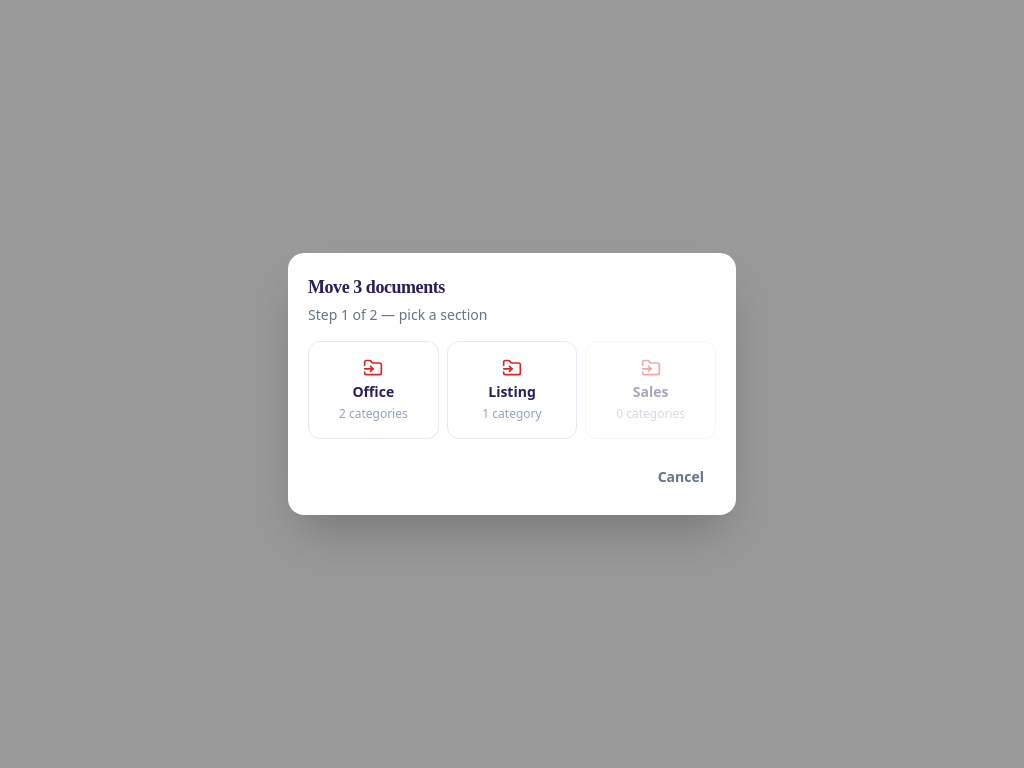
it: CategoryPickerDialog — button path (no section provided) › advances to category step after picking a section
The width and height of the screenshot is (1024, 768).
Click the button "Listing 1 category" at (512, 390), box [447,341,577,439]
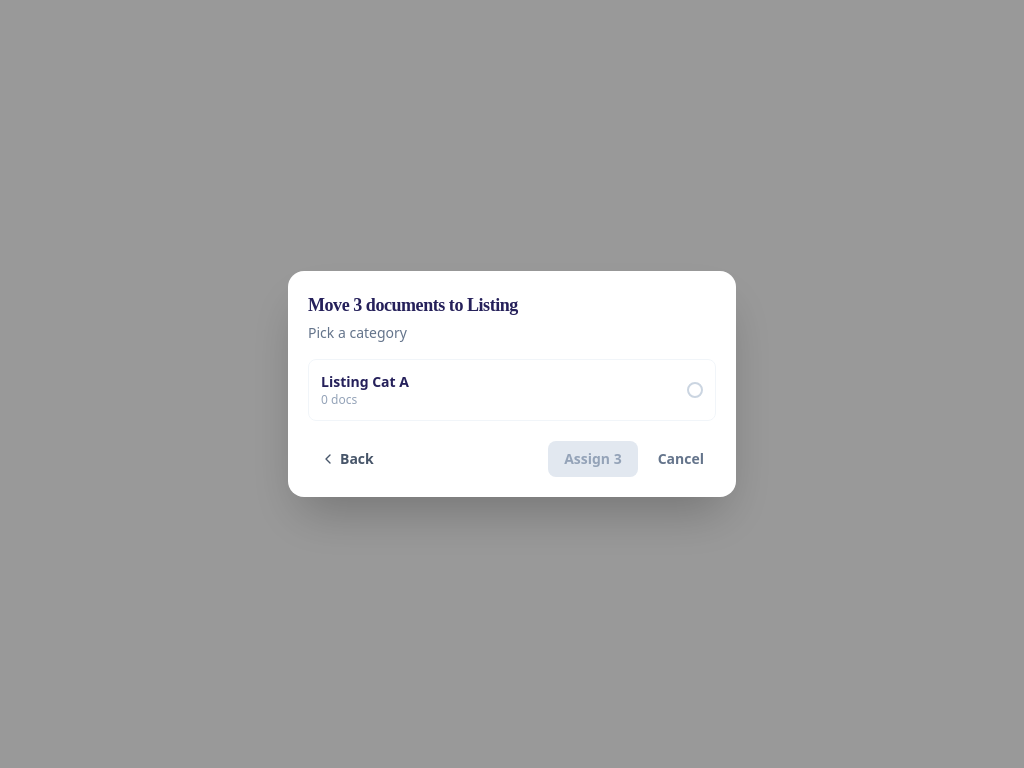
Expected: the text "Listing Cat A" is shown, [321,372,409,391]
Expected: the heading "Move 3 documents to Listing" is shown, [308,295,518,315]
